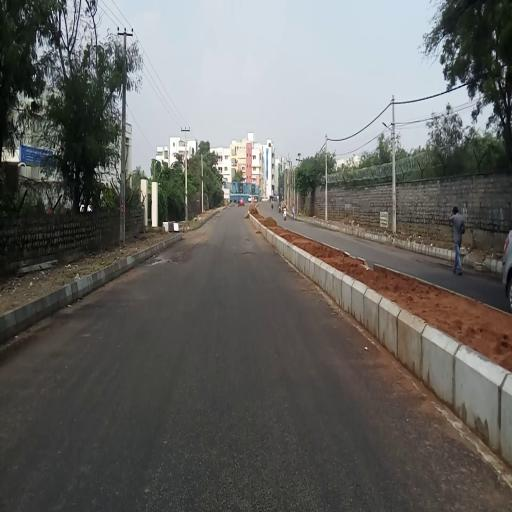street_light_0: (379, 115, 395, 141)
